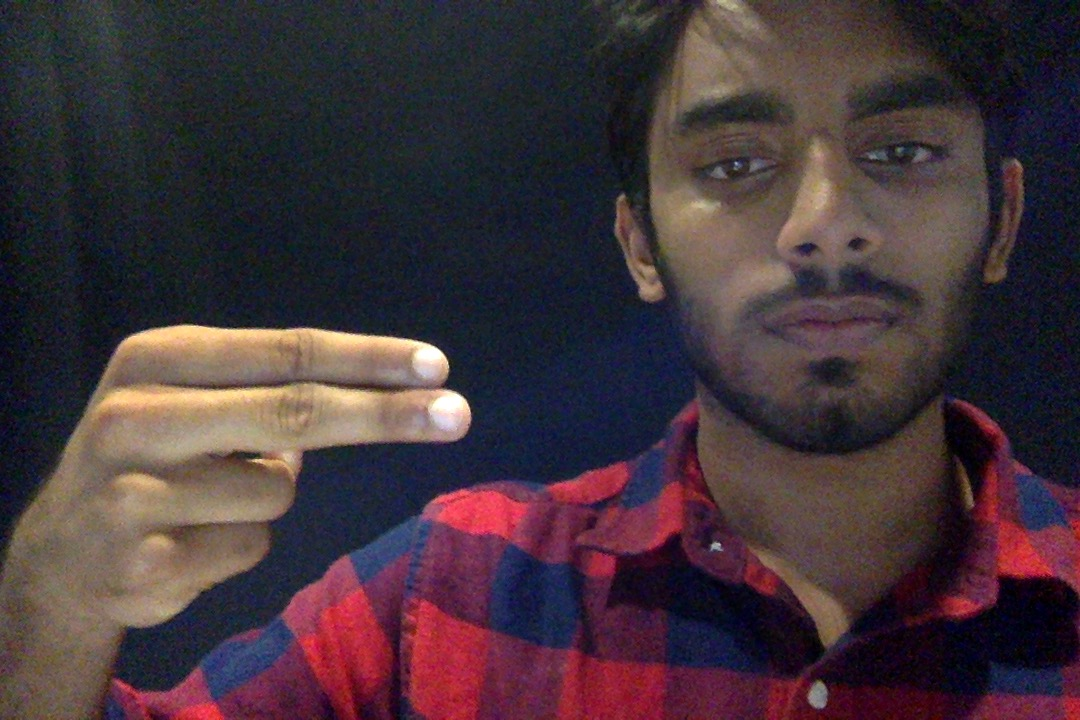h: (4, 279, 486, 654)
